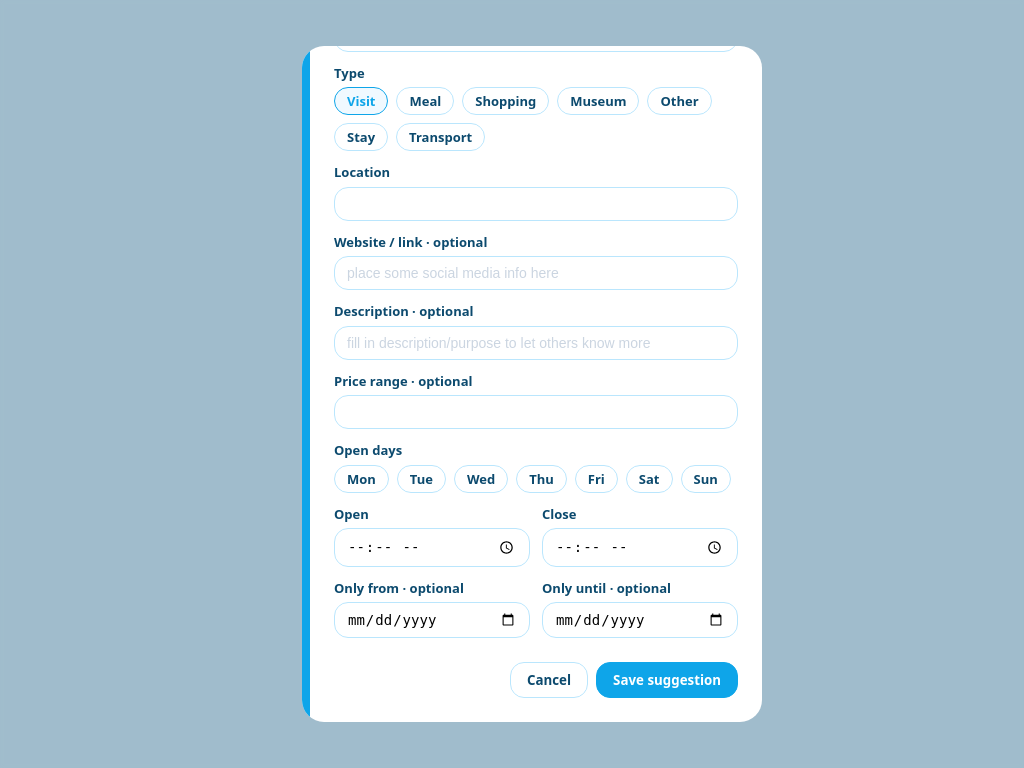
it: SuggestionEditorModal › blocks a place save when required fields are missing
(page scrolled)
Click the button "Save suggestion" at coordinates (667, 680), box [596,662,738,698]
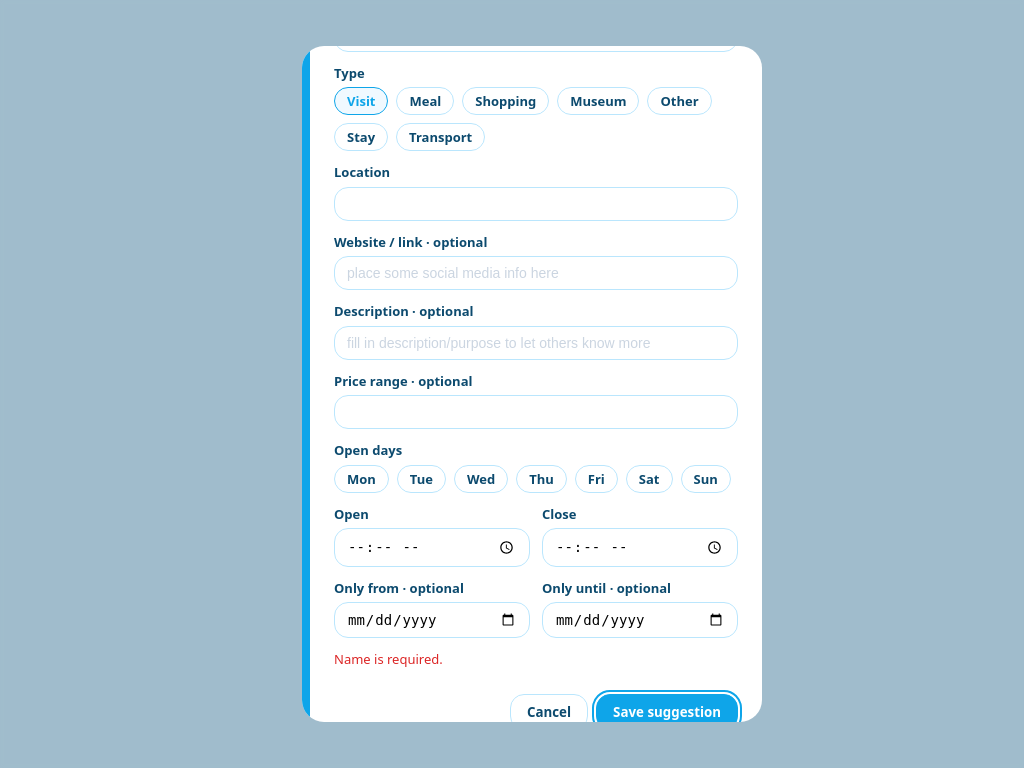
Check: the message "Name is required." is shown, box [334,650,443,668]
